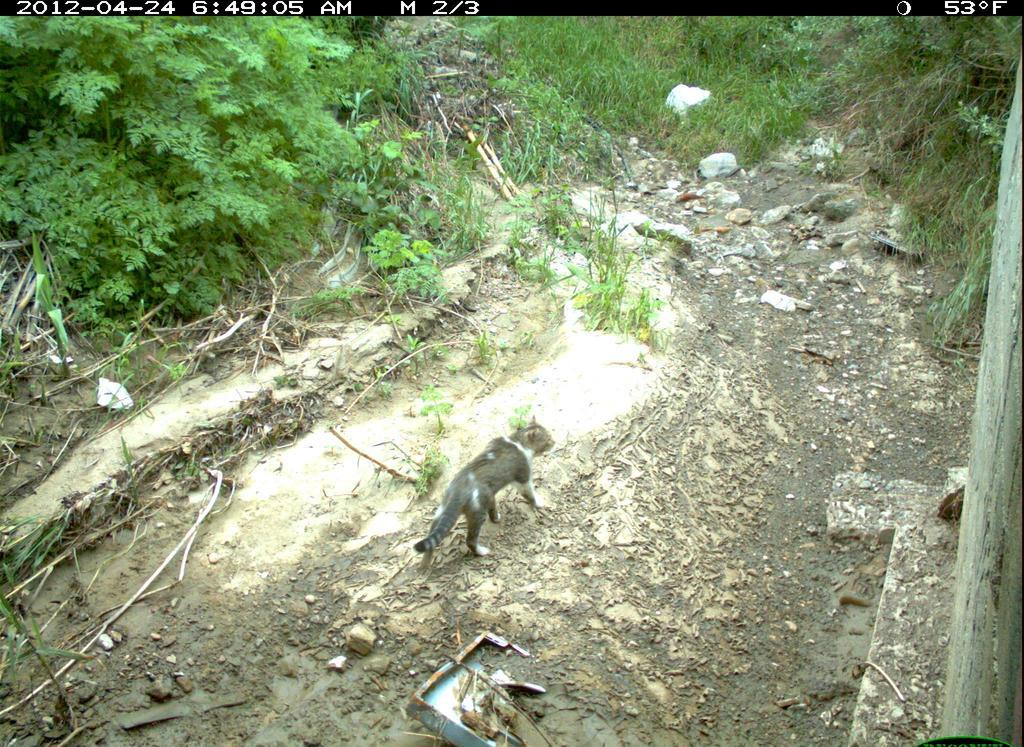cat: (410, 414, 559, 574)
